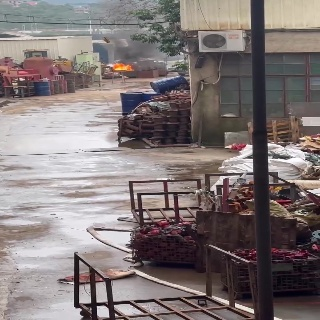fire: (112, 63, 133, 71)
